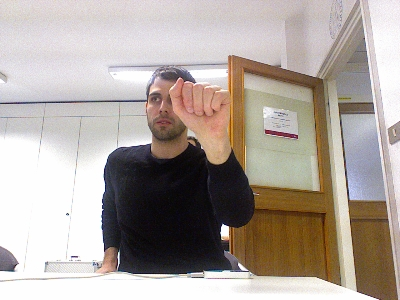石头: (165, 73, 235, 139)
